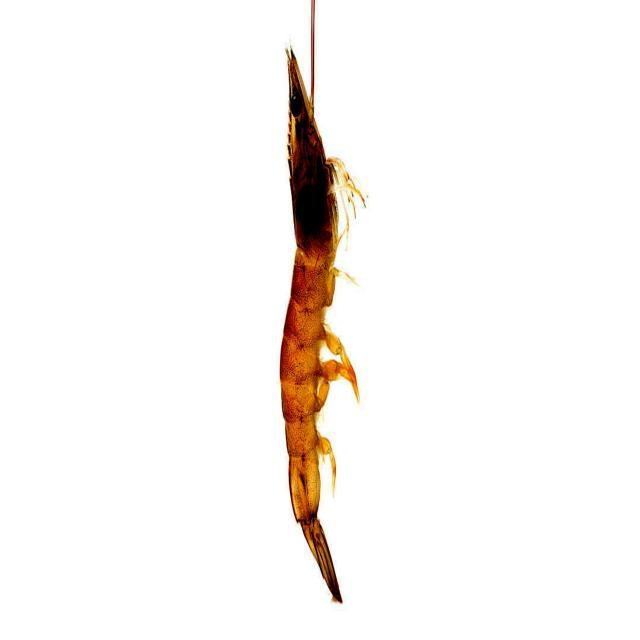shrimp: (281, 50, 359, 601)
